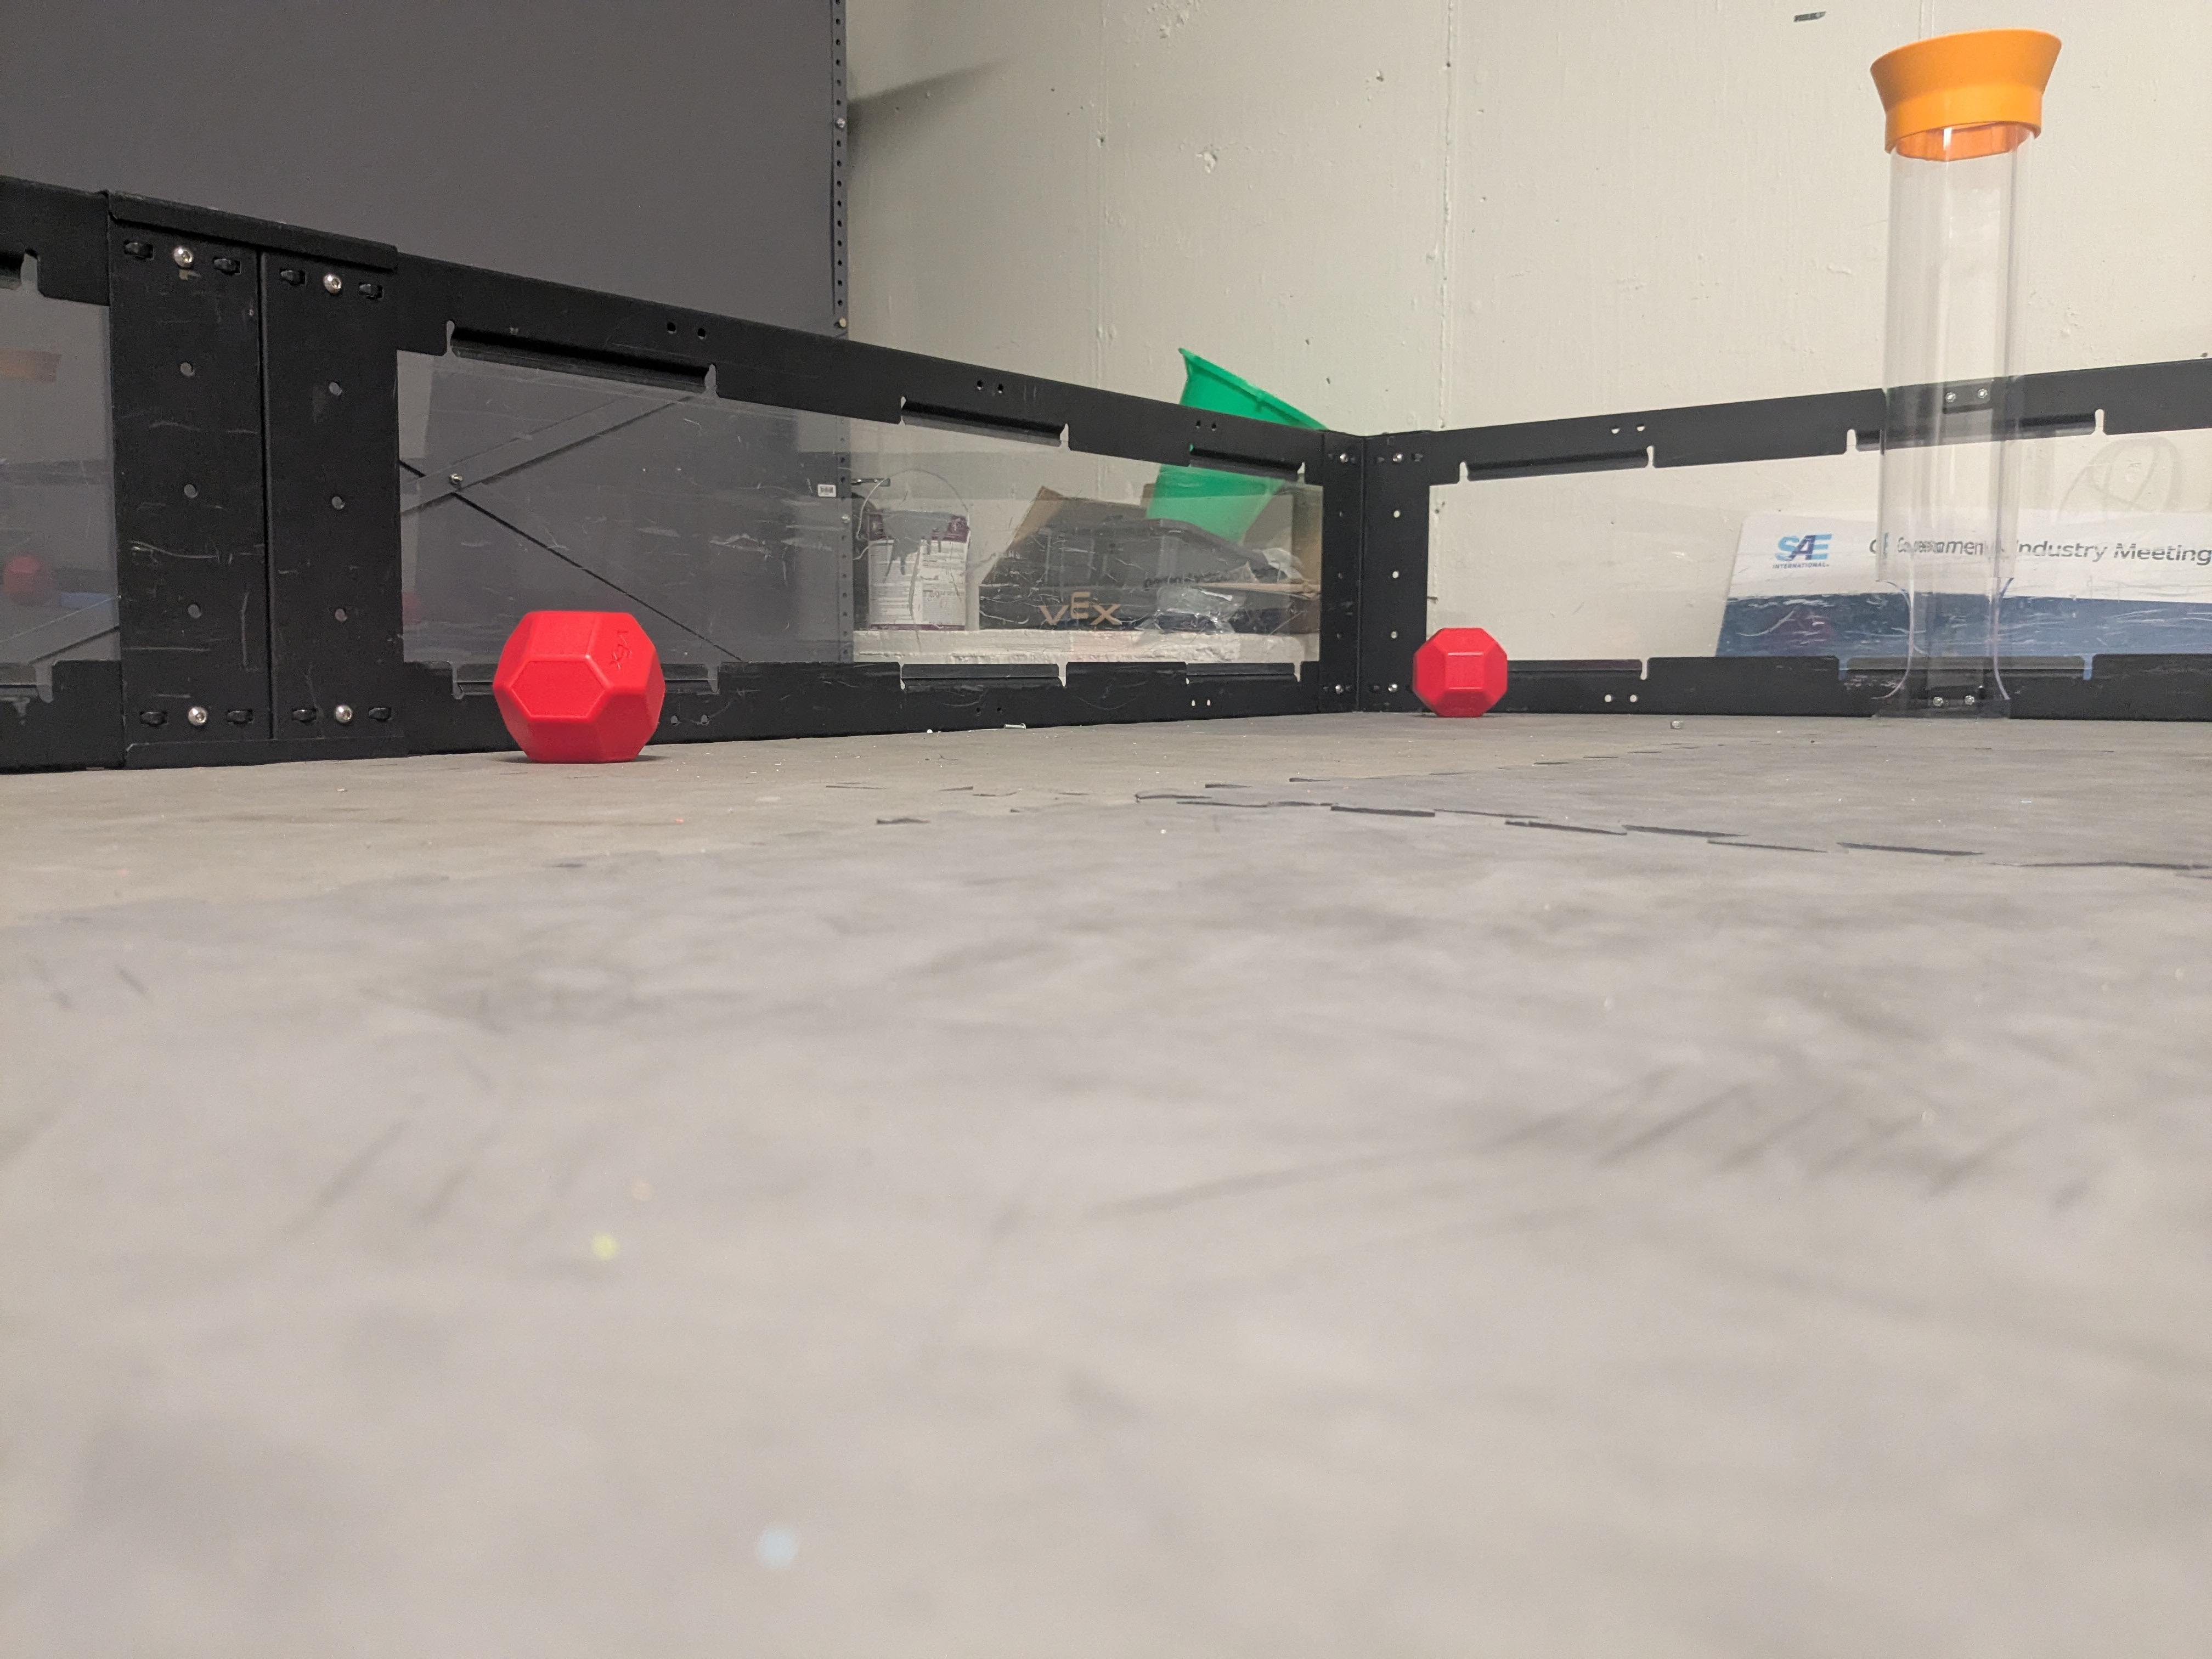Vex-Pieces-RED: (493, 613, 662, 762), (1413, 627, 1508, 718)
